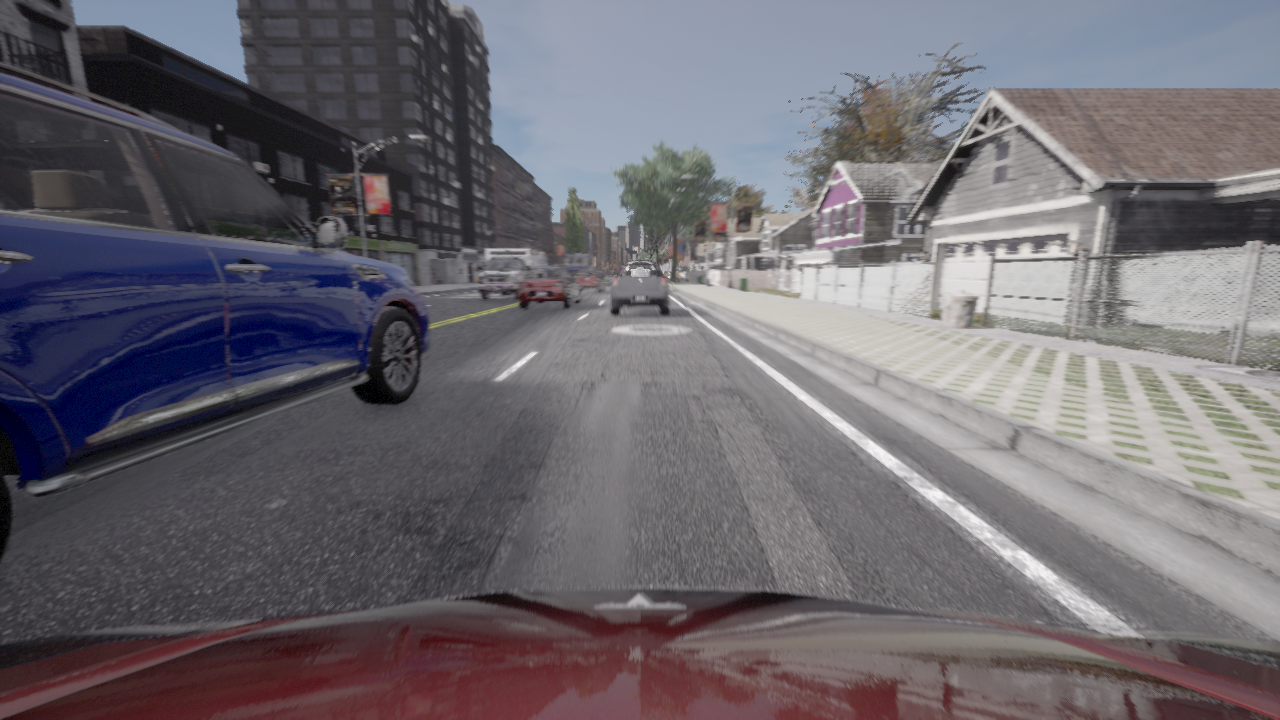cyclist: (0, 588, 1279, 719), (476, 249, 545, 299), (611, 263, 668, 315), (518, 266, 580, 308), (562, 254, 592, 276), (575, 269, 603, 292), (628, 261, 651, 263)
